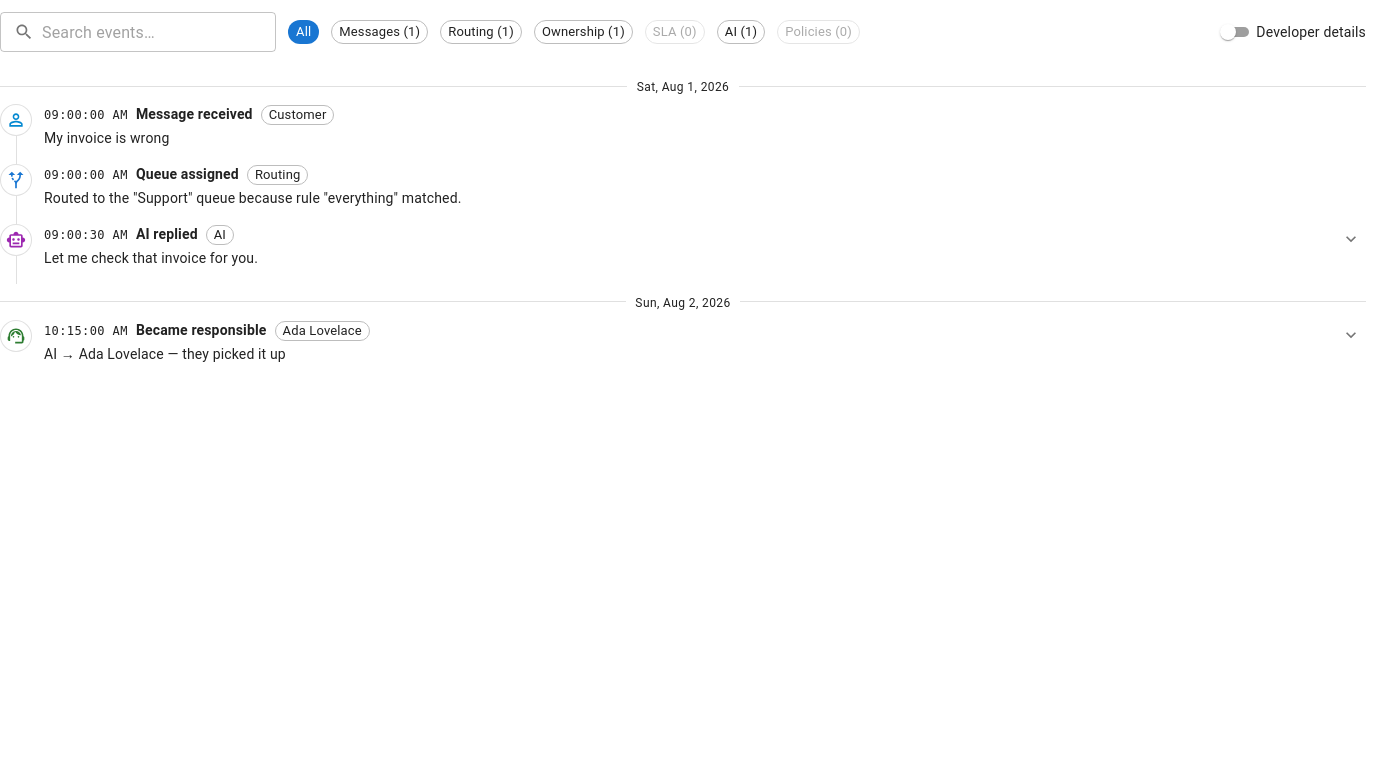
Test case: ConversationTimeline › keeps developer detail out of the way until it is asked for
The width and height of the screenshot is (1378, 780).
Click the button named "show details for AI replied".
click(1351, 239)  # box [1336,224,1366,254]
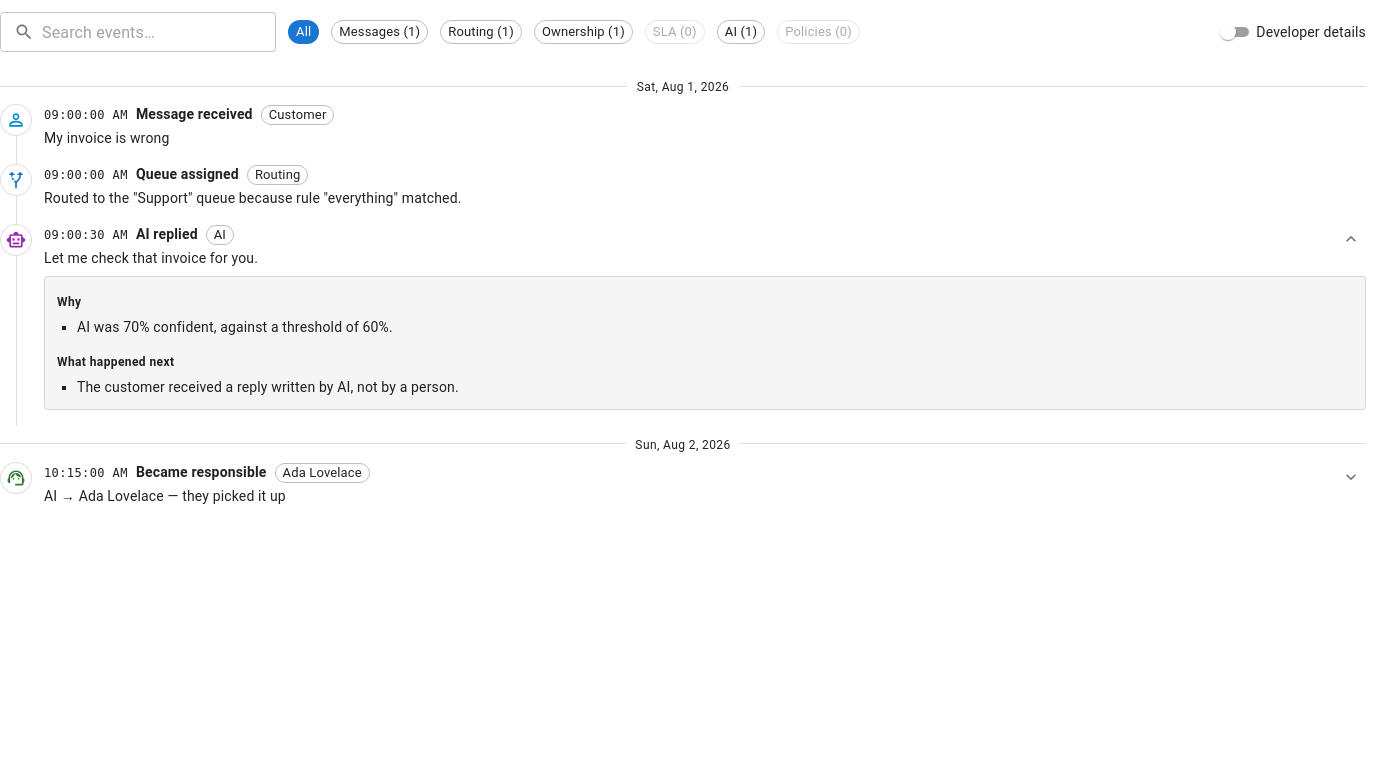
Expected: the text "dec-1" is not shown
Click the switch labelled "Developer details".
click(1291, 32)  # box [1216,20,1366,44]
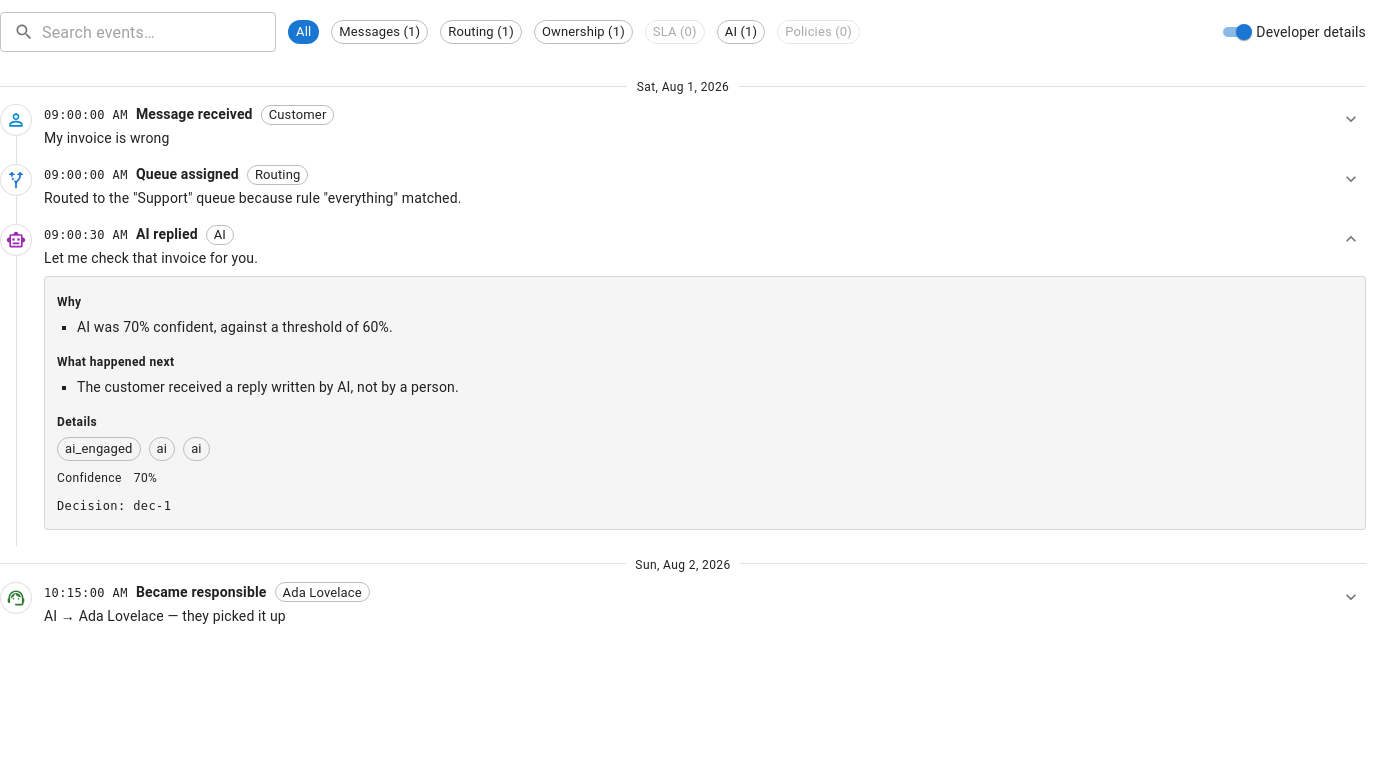
Result: the text "Decision: dec-1" is shown at [57,499,171,513]
Result: the text "ai_engaged" is shown at [65,441,133,456]
